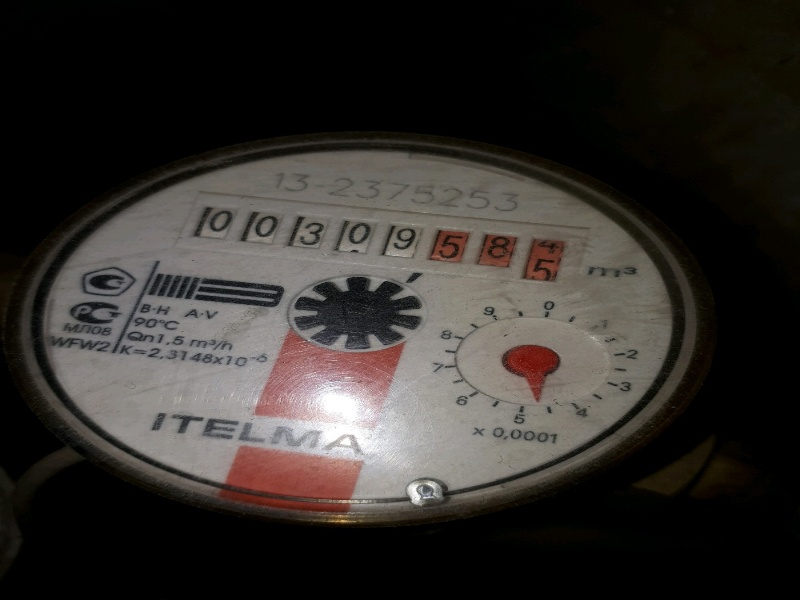meter: (198, 204, 562, 285)
